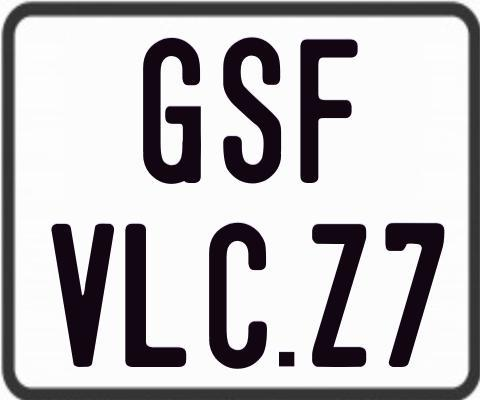7: (384, 222, 446, 372)
C: (208, 221, 272, 371)
F: (298, 39, 358, 183)
G: (143, 35, 205, 183)
L: (125, 221, 186, 368)
S: (220, 35, 282, 187)
V: (50, 224, 113, 370)
Z: (310, 222, 367, 371)
